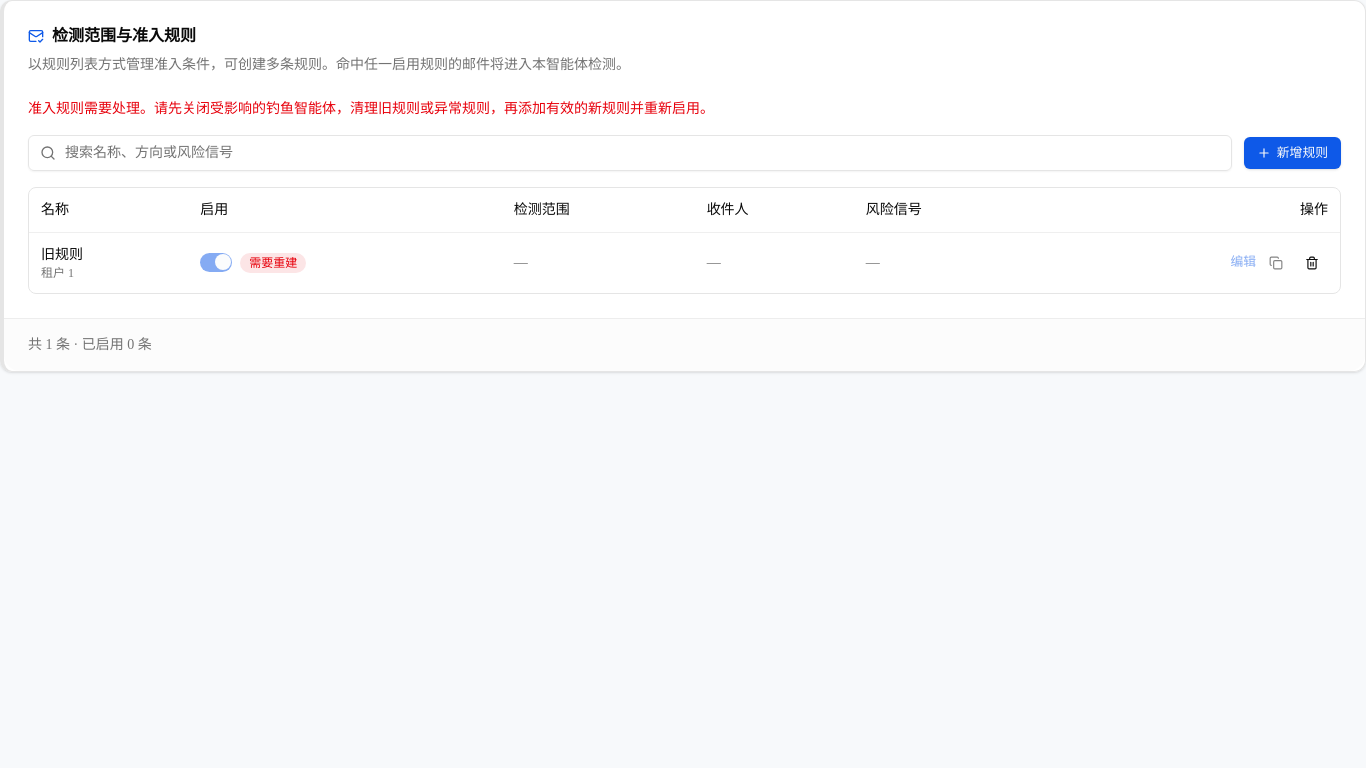
lets an administrator delete an unsupported rule without inventing editable settings
This screenshot has width=1366, height=768.
Expected: the text "需要重建" is shown, [240,252,306,272]
Expected: the button "编辑" is disabled, [1230,246,1256,278]
Click the button named "删除" at (1312, 262), box [1296,246,1328,278]
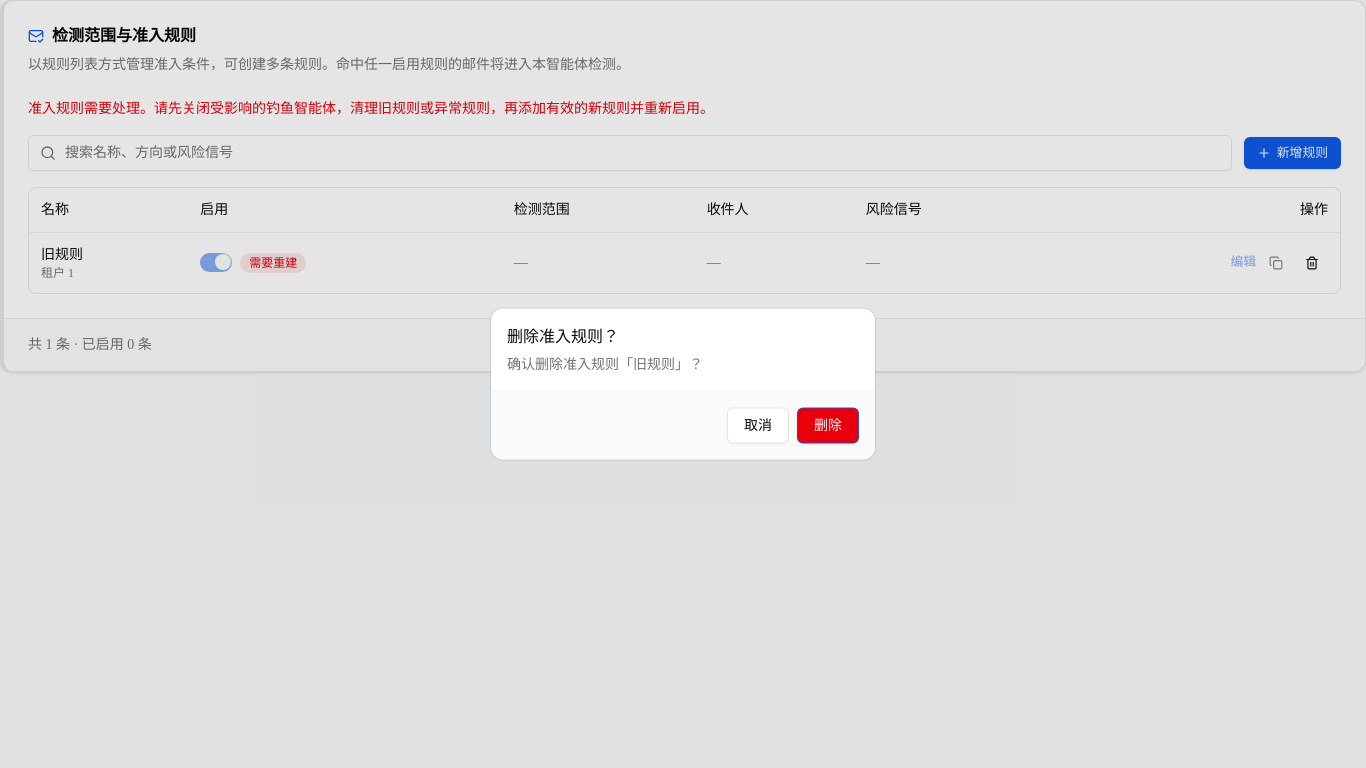
Click the button "删除" at (828, 426), box [797,408,859,444]
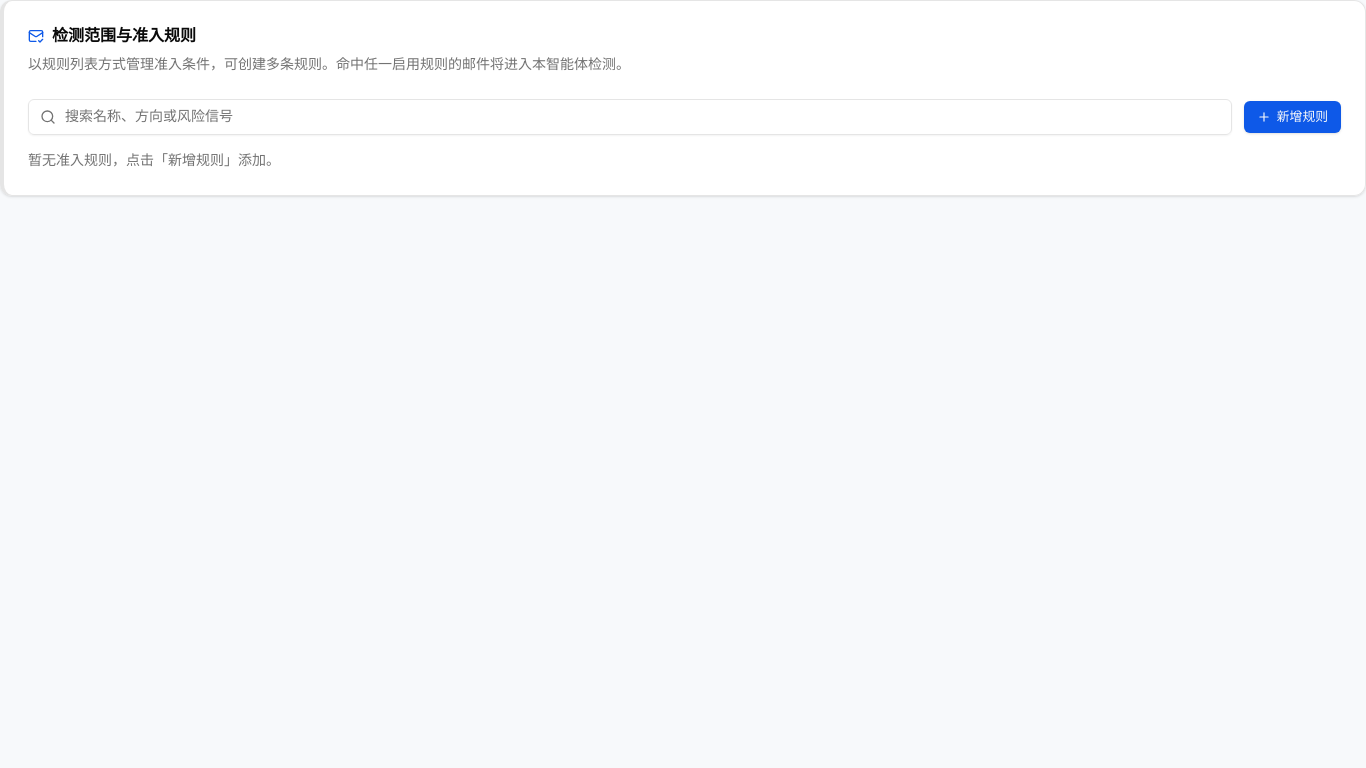
Expected: the button with test id "admission-rule-create" is enabled, [1244,101,1341,133]
Expected: the text "旧规则" is gone
